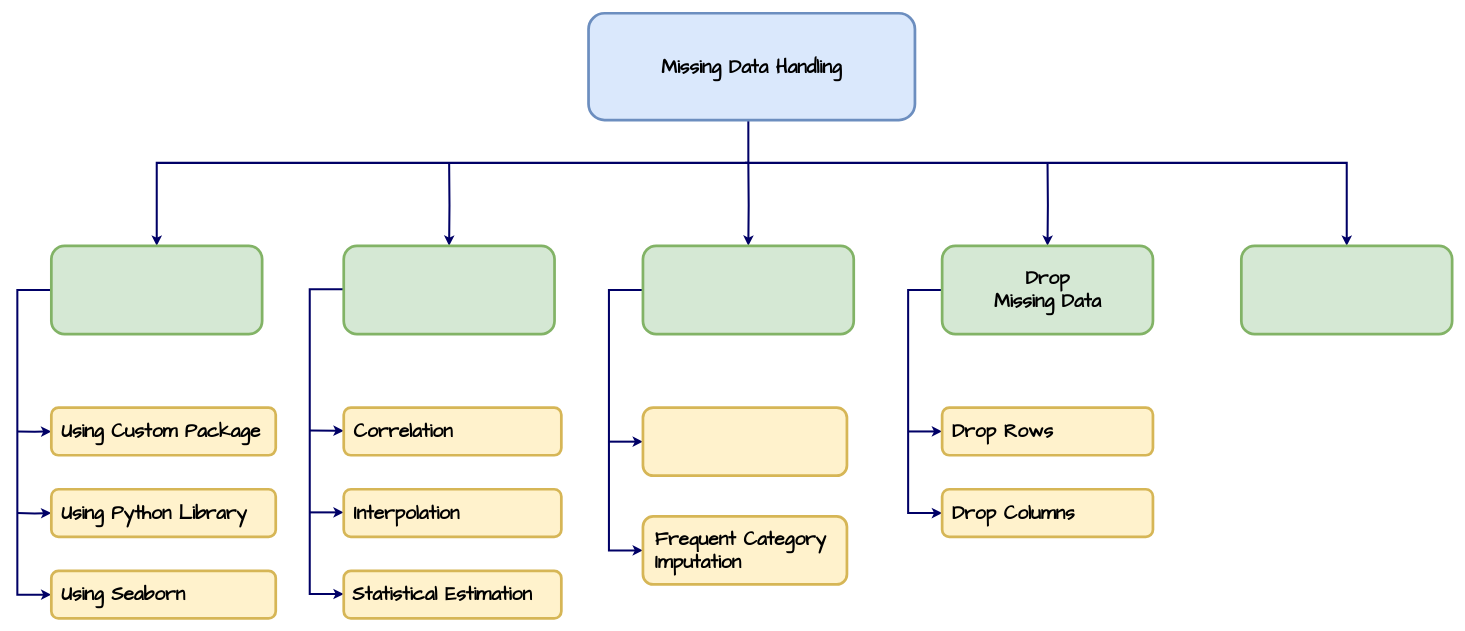
The diagram is 1465 pixels wide and 631 high, and some of its shapes have lost their labels. Each missing label, with the centre of its shape:
"Categorical Missing Data Handling" goes at (748,289).
"Count and Visualize Missing Data" goes at (156,289).
"Impute a new 'Missing' Category" goes at (744,441).
"Numeric Missing Data Handling" goes at (449,289).
"Use of predictive Model" goes at (1346,289).
